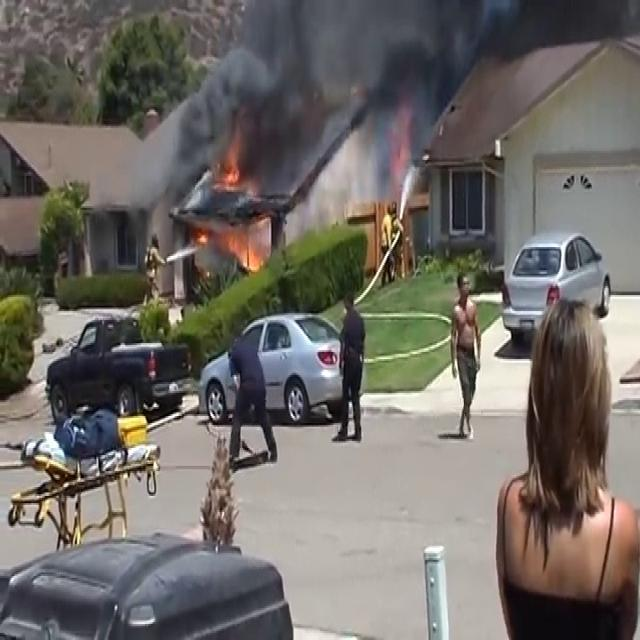Fire: (211, 220, 266, 276)
Smoke: (193, 4, 502, 198)
